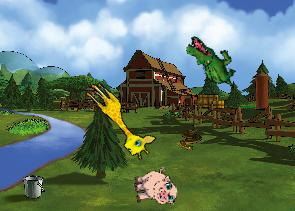crocodile: (177, 34, 246, 90)
giraffe: (75, 78, 160, 163)
pig: (131, 166, 178, 210)
